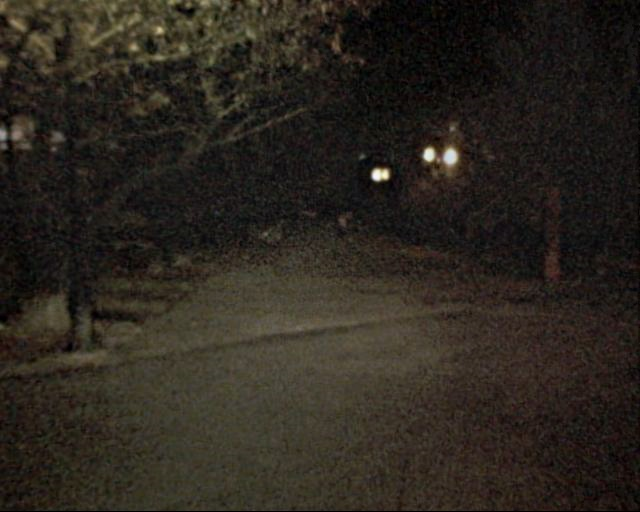person: (335, 215, 352, 257)
